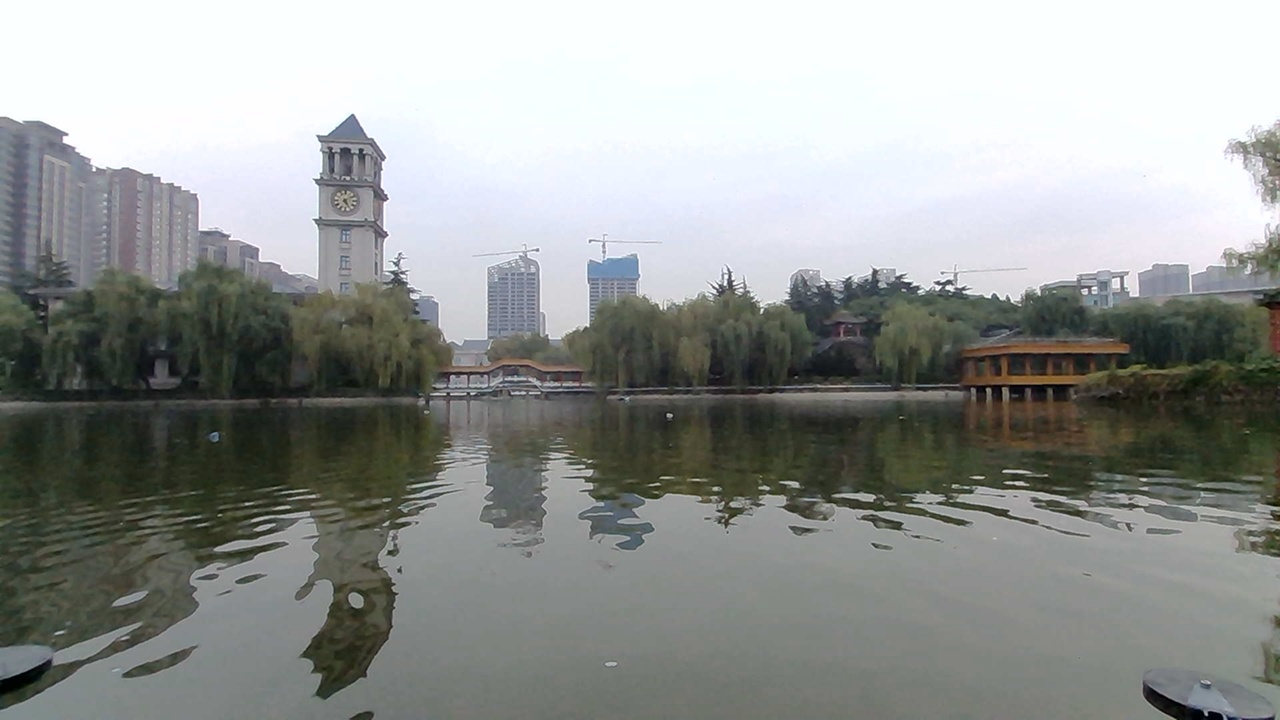bottle: (196, 425, 230, 447), (657, 402, 693, 421)
